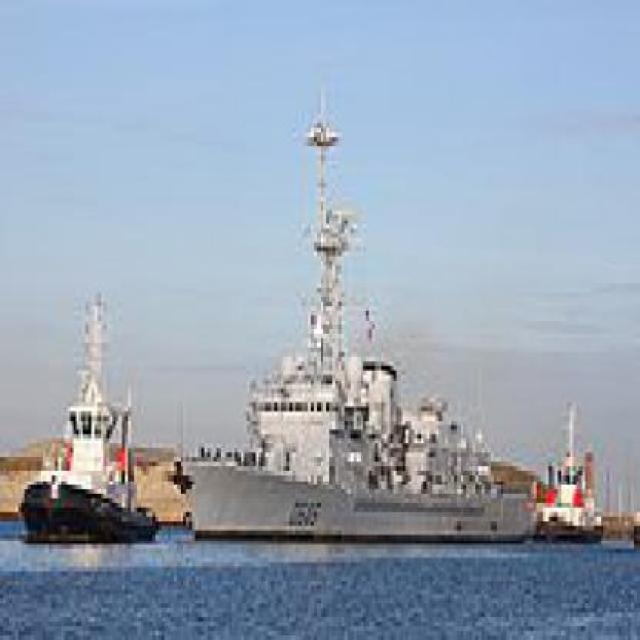warship2: (175, 84, 529, 550)
